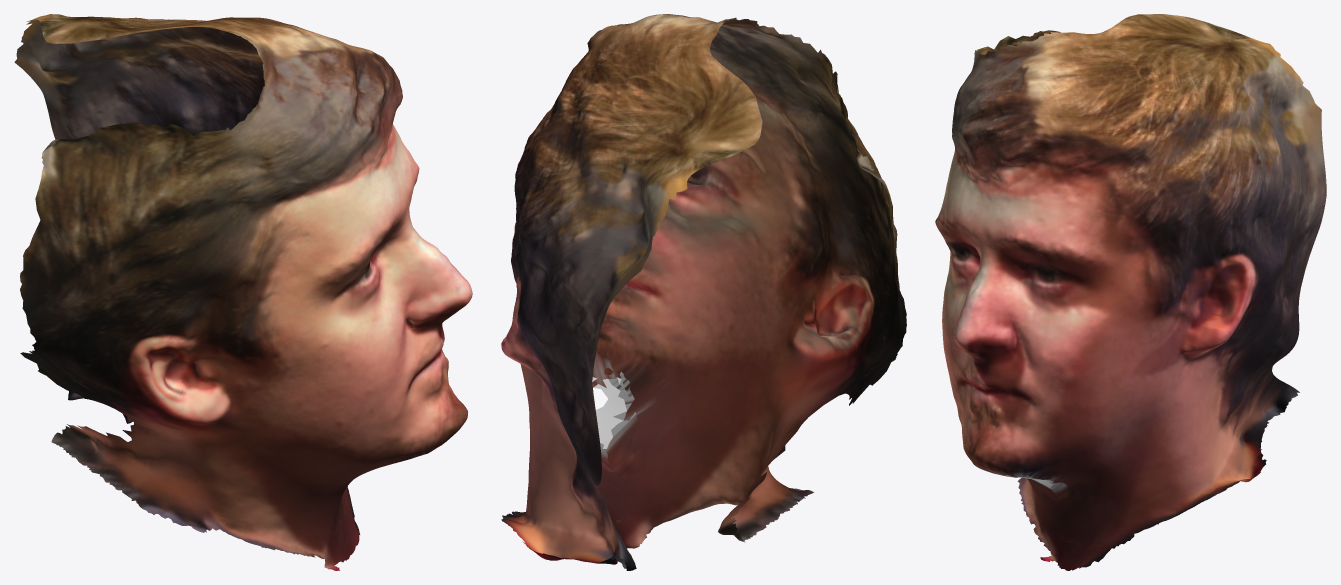
File: 3D_Ryan_Head_clean.glb
The picture shows the model from 3 angles, left to right: view 1: azimuth 30°, elevation 25°; view 2: azimuth 150°, elevation 25°; view 3: azimuth 270°, elevation 25°; orthographic projection. The views are drawn at different scales.
Parts seen in each view (by area): view 1: my head; view 2: my head; view 3: my head.
Part boxes in pixels (x1,y1,x2,y2): my head: (14,14,472,570); my head: (501,14,906,570); my head: (935,14,1326,570).
Size of the model in its own units: 4.15 by 5.61 by 4.09.
Materials: 2 (1 with a texture image).
